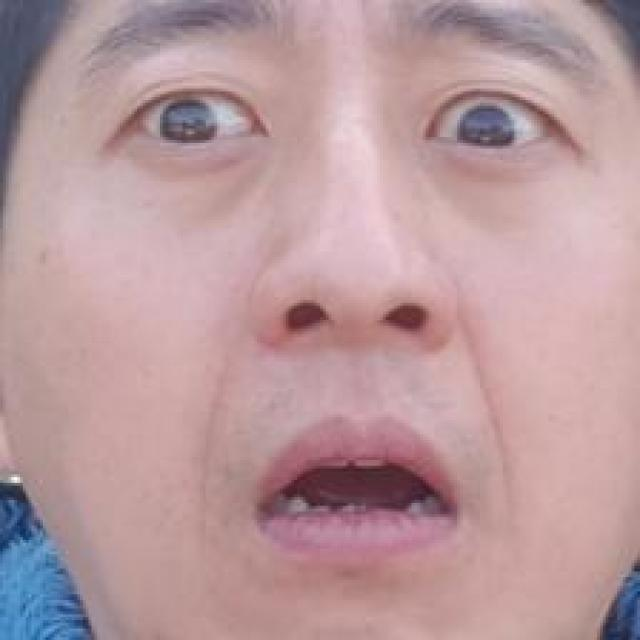Fear: (79, 5, 611, 597)
